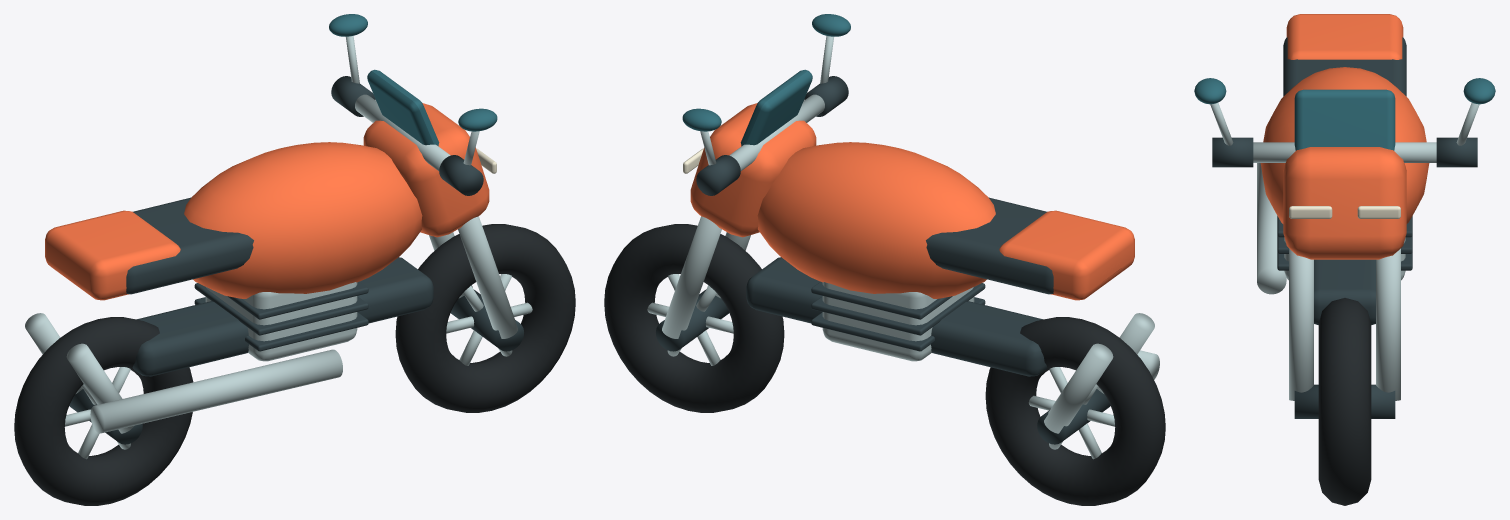
The model's file is sport.glb.
The picture shows the model from 3 angles, left to right: view 1: azimuth 30°, elevation 25°; view 2: azimuth 150°, elevation 25°; view 3: azimuth 270°, elevation 25°; orthographic projection. The views are drawn at different scales.
Parts seen in each view (by area): view 1: LR Fuel tank, LR Tire.001, LR Tire, LR Chassis, LR Exhaust, LR Tail fairing, LR Front fairing, LR Seat, LR Engine, LR Fork.002, LR Windscreen, LR Fork (+11 smaller); view 2: LR Fuel tank, LR Tire.001, LR Tire, LR Chassis, LR Tail fairing, LR Front fairing, LR Seat, LR Engine, LR Fork.003, LR Windscreen, LR Fork.001, LR Engine fin.001 (+10 smaller); view 3: LR Front fairing, LR Tire.001, LR Fuel tank, LR Windscreen, LR Tail fairing, LR Fork.002, LR Fork.003, LR Chassis, LR Seat, LR Exhaust, LR Handlebar, LR Axle.001 (+10 smaller).
Part boxes in pixels (x1=…): LR Fuel tank: x1=184, y1=142, x2=422, y2=298; LR Tire.001: x1=395, y1=224, x2=575, y2=412; LR Tire: x1=14, y1=317, x2=193, y2=505; LR Chassis: x1=132, y1=257, x2=433, y2=376; LR Exhaust: x1=90, y1=349, x2=342, y2=433; LR Tail fairing: x1=45, y1=210, x2=180, y2=300; LR Front fairing: x1=363, y1=103, x2=489, y2=237; LR Seat: x1=126, y1=197, x2=253, y2=294; LR Engine: x1=205, y1=282, x2=357, y2=361; LR Fork.002: x1=458, y1=216, x2=517, y2=338; LR Windscreen: x1=367, y1=69, x2=439, y2=146; LR Fork: x1=66, y1=343, x2=133, y2=433; LR Fuel tank: x1=757, y1=142, x2=995, y2=298; LR Tire.001: x1=604, y1=224, x2=784, y2=412; LR Tire: x1=985, y1=317, x2=1165, y2=505; LR Chassis: x1=746, y1=257, x2=1047, y2=376; LR Tail fairing: x1=999, y1=210, x2=1134, y2=300; LR Front fairing: x1=690, y1=103, x2=816, y2=237; LR Seat: x1=926, y1=197, x2=1053, y2=294; LR Engine: x1=822, y1=282, x2=974, y2=361; LR Fork.003: x1=662, y1=216, x2=721, y2=338; LR Windscreen: x1=740, y1=69, x2=812, y2=146; LR Fork.001: x1=1044, y1=343, x2=1113, y2=433; LR Engine fin.001: x1=811, y1=283, x2=985, y2=335; LR Front fairing: x1=1283, y1=147, x2=1406, y2=259; LR Tire.001: x1=1318, y1=298, x2=1371, y2=505; LR Fuel tank: x1=1260, y1=67, x2=1429, y2=223; LR Windscreen: x1=1294, y1=89, x2=1395, y2=150; LR Tail fairing: x1=1286, y1=14, x2=1403, y2=59; LR Fork.002: x1=1289, y1=248, x2=1313, y2=400; LR Fork.003: x1=1376, y1=248, x2=1400, y2=400; LR Chassis: x1=1314, y1=259, x2=1375, y2=324; LR Seat: x1=1283, y1=37, x2=1406, y2=96; LR Exhaust: x1=1257, y1=163, x2=1286, y2=294; LR Handlebar: x1=1253, y1=142, x2=1436, y2=162; LR Axle.001: x1=1294, y1=384, x2=1395, y2=418.
Size of the model in its own units: 2.91 by 1.82 by 1.32.
